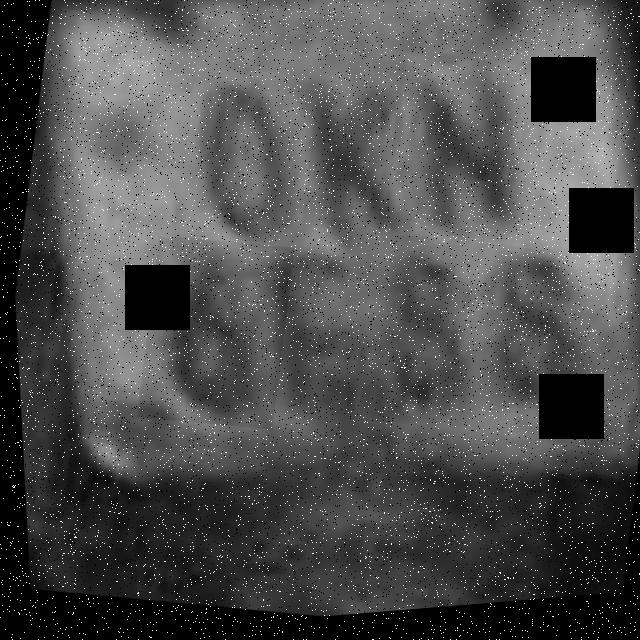6: (125, 231, 298, 442)
8: (447, 219, 616, 460), (341, 227, 502, 447)
N: (374, 52, 551, 265)
O: (164, 61, 325, 270)
